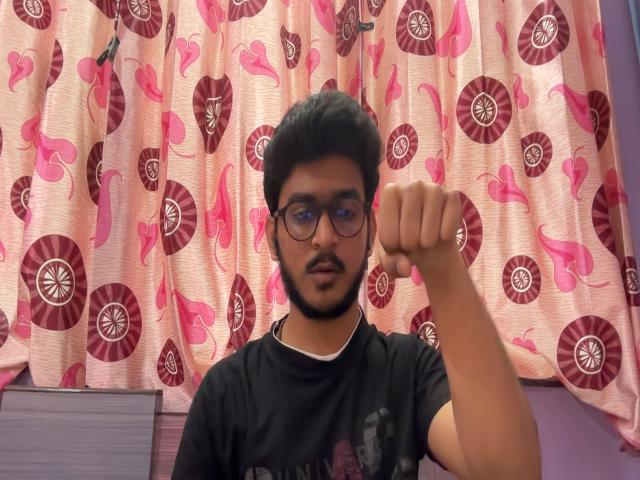Yes: (376, 172, 466, 286)
